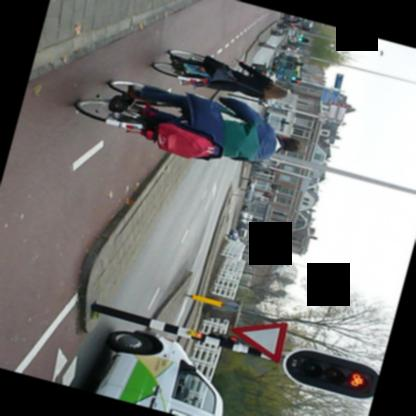backpack: (155, 119, 212, 159)
handbag: (200, 54, 265, 95)
